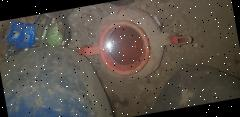general: (3, 15, 40, 50)
plastic: (71, 0, 197, 88), (0, 34, 115, 117)
